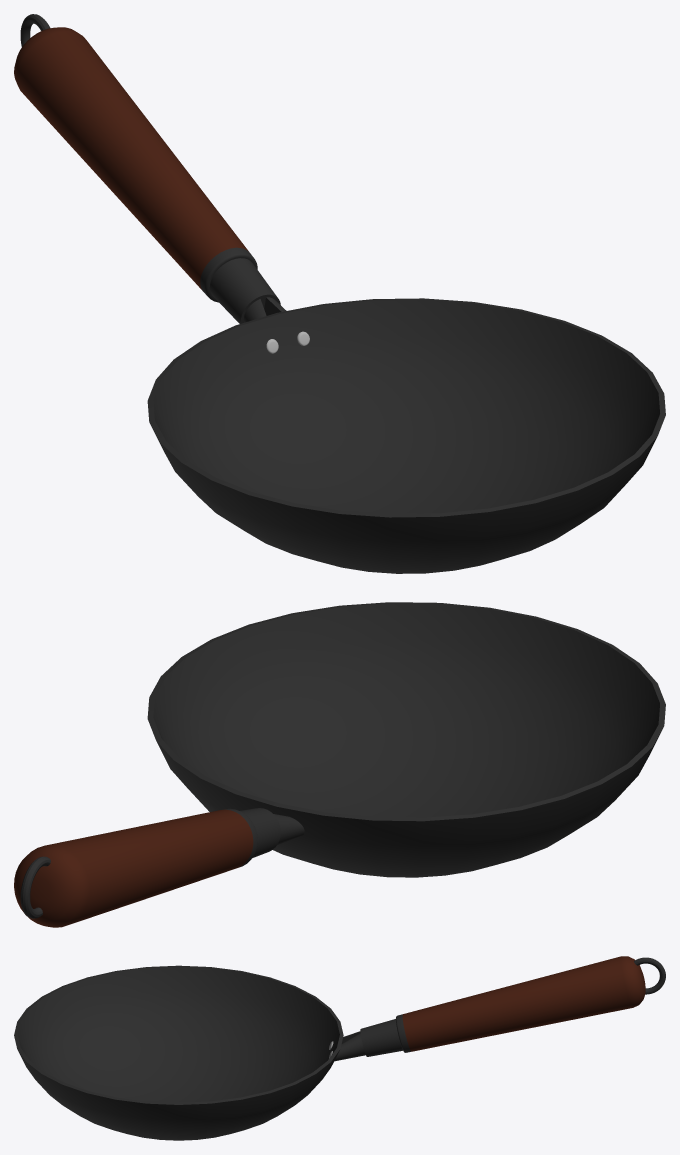
Rendered from tava.fbx.
3 views of the same model, one above another, from view 1: azimuth 30°, elevation 25°; view 2: azimuth 150°, elevation 25°; view 3: azimuth 270°, elevation 25° (orthographic). The views are drawn at different scales.
Parts seen in each view (by area): view 1: tava; view 2: tava; view 3: tava.
Boxes of the visible parts, x1=… form: tava: x1=14, y1=14, x2=665, y2=573; tava: x1=14, y1=602, x2=665, y2=927; tava: x1=14, y1=956, x2=665, y2=1140.
Size of the model in its own units: 91.86 by 49.48 by 182.
